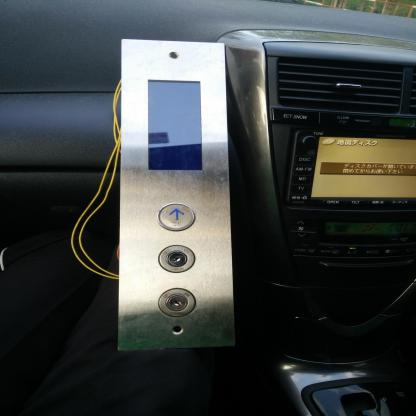keyhole: (157, 286, 197, 319), (157, 244, 197, 273)
led: (145, 77, 204, 174)
up: (157, 201, 195, 233)
